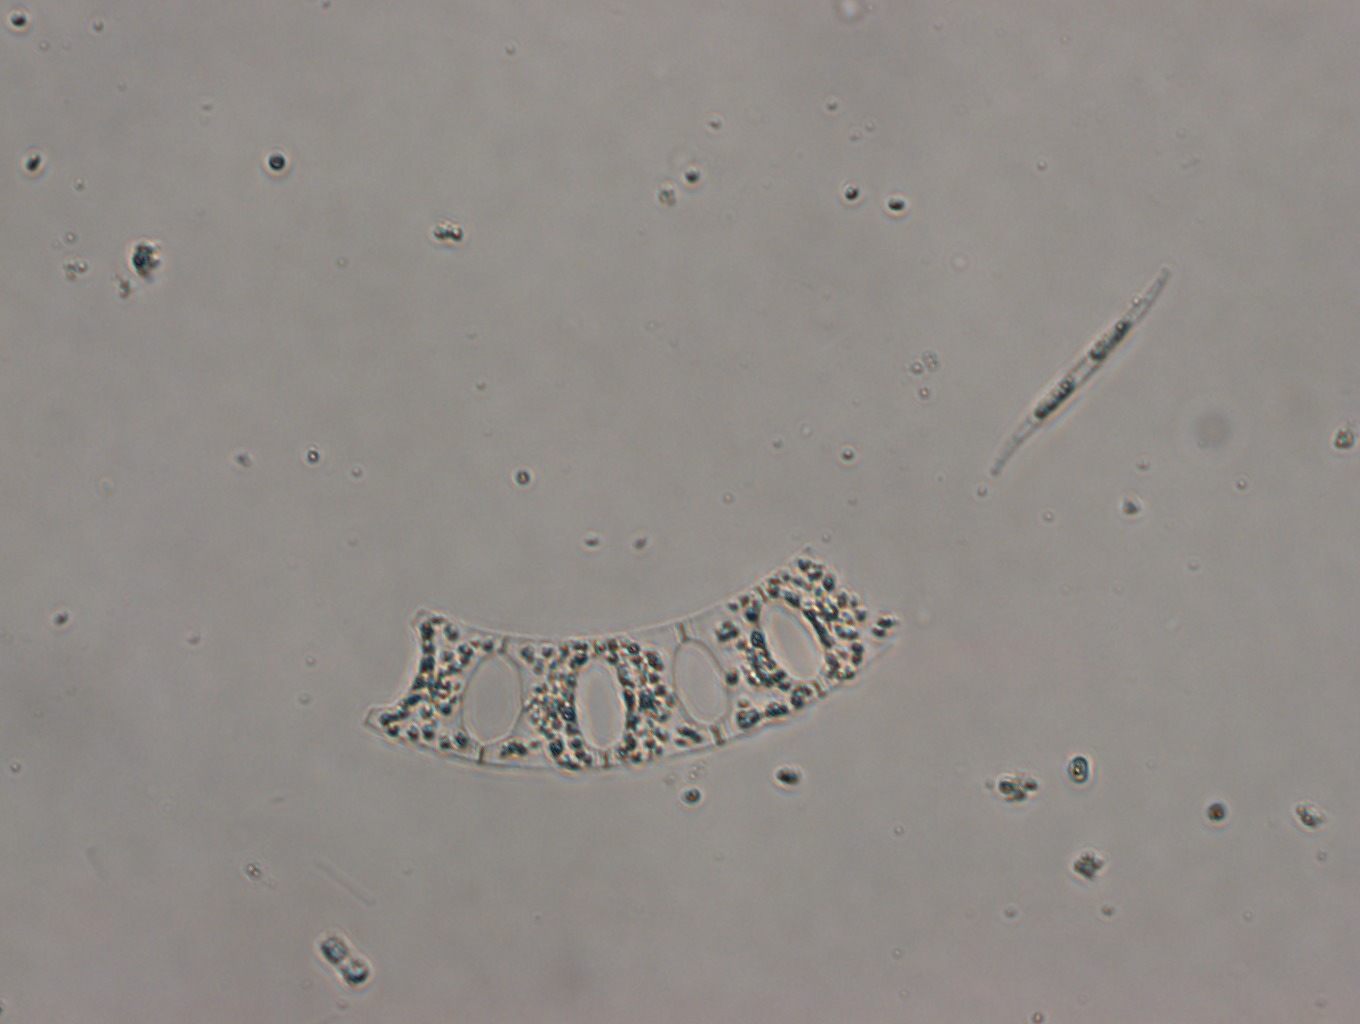eucampia: (357, 552, 905, 776)
pleurosigma pelagicum: (986, 266, 1174, 480)
